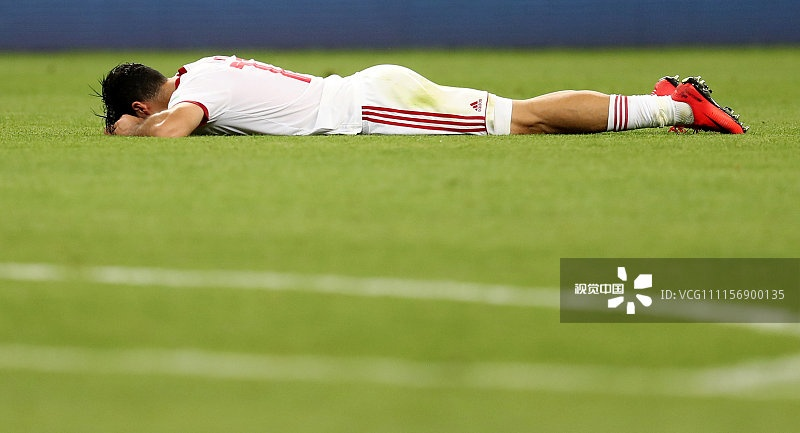falling: (85, 35, 742, 139)
